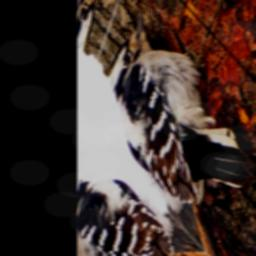Woodpecker: (88, 0, 256, 256)
